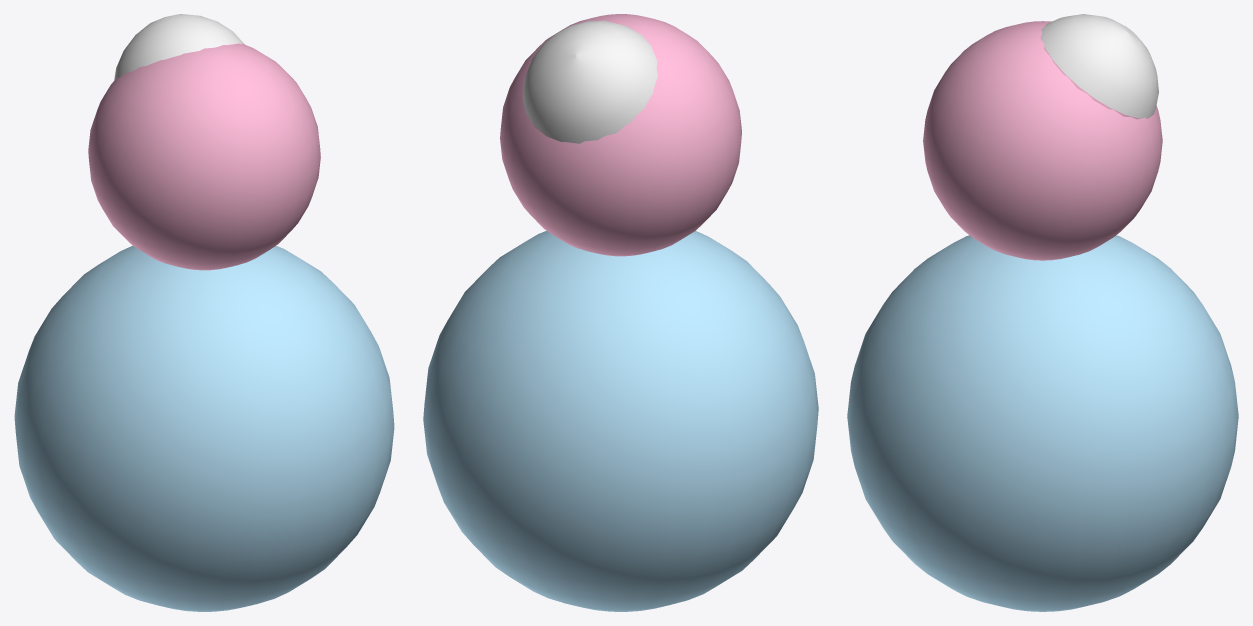
File: Gosn1.fbx
The picture shows the model from 3 angles, left to right: view 1: azimuth 30°, elevation 25°; view 2: azimuth 150°, elevation 25°; view 3: azimuth 270°, elevation 25°; orthographic projection. The views are drawn at different scales.
Parts seen in each view (by area): view 1: cika_3, cika_3.001, cika_3.002; view 2: cika_3, cika_3.001, cika_3.002; view 3: cika_3, cika_3.001, cika_3.002.
Boxes of the visible parts, x1,y1,x2,y2 form: cika_3: [14, 245, 394, 611]; cika_3.001: [88, 43, 320, 270]; cika_3.002: [114, 14, 244, 80]; cika_3: [423, 230, 818, 611]; cika_3.001: [500, 14, 741, 256]; cika_3.002: [522, 20, 657, 143]; cika_3: [847, 235, 1238, 611]; cika_3.001: [923, 21, 1162, 260]; cika_3.002: [1040, 14, 1158, 119].
Size of the model in its own units: 5301 by 8562 by 5301.
